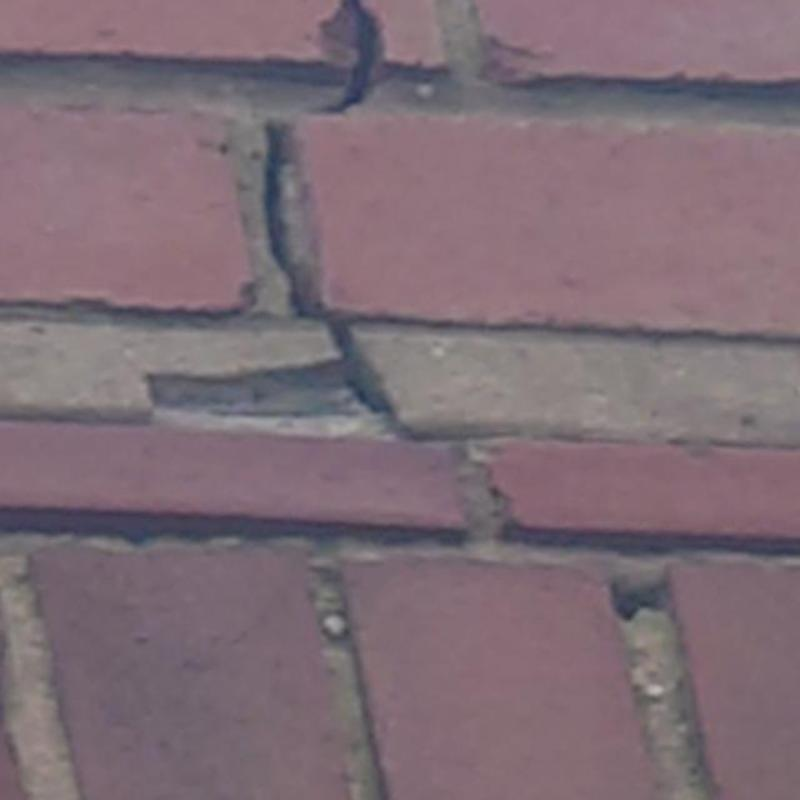pothole: (266, 123, 388, 412), (331, 0, 381, 110)
